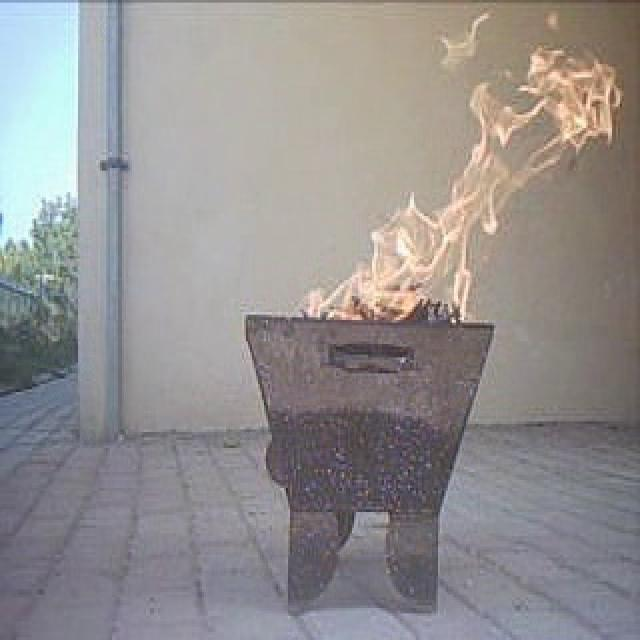Fire: (326, 40, 614, 336)
